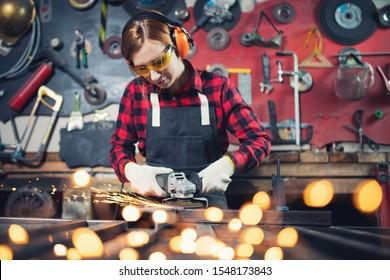gloves: (122, 160, 173, 197), (194, 153, 236, 195)
